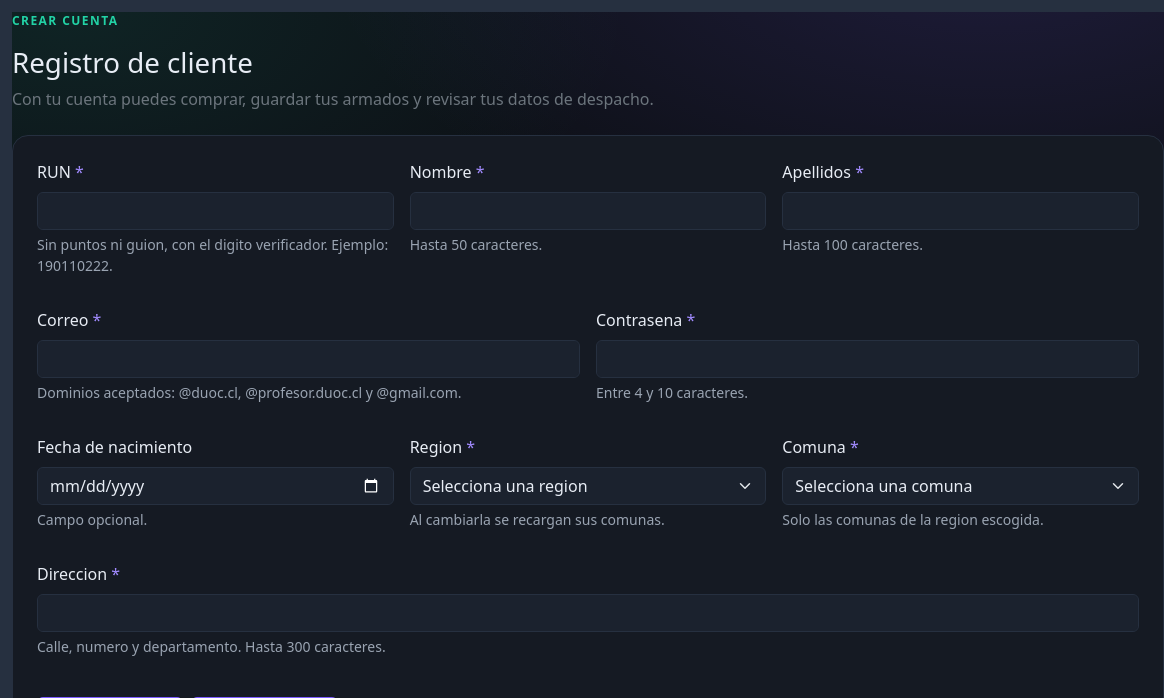
Test: Registro › rechaza una contrasena fuera de 4 a 10 caracteres
Type "abc" into the password field labelled "Contrasena *" at (868, 359), box x1=596 y1=340 x2=1139 y2=378
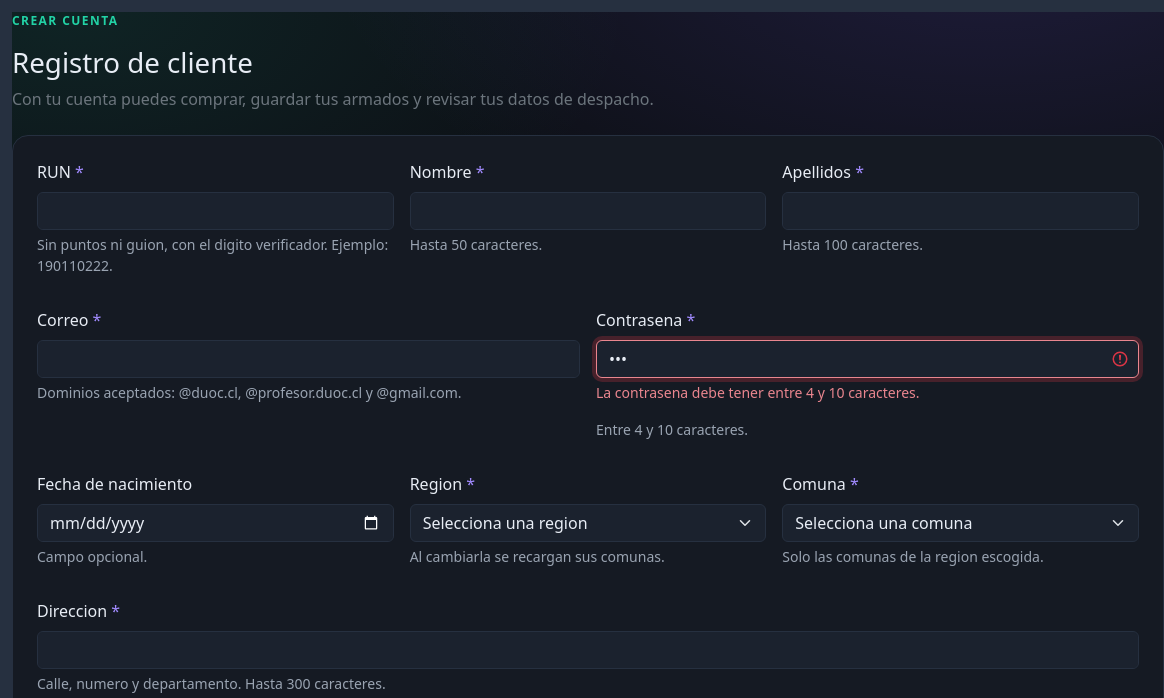
Expected: the text "La contrasena debe tener entre 4 y 10 caracteres." is shown, x1=596 y1=383 x2=920 y2=402
